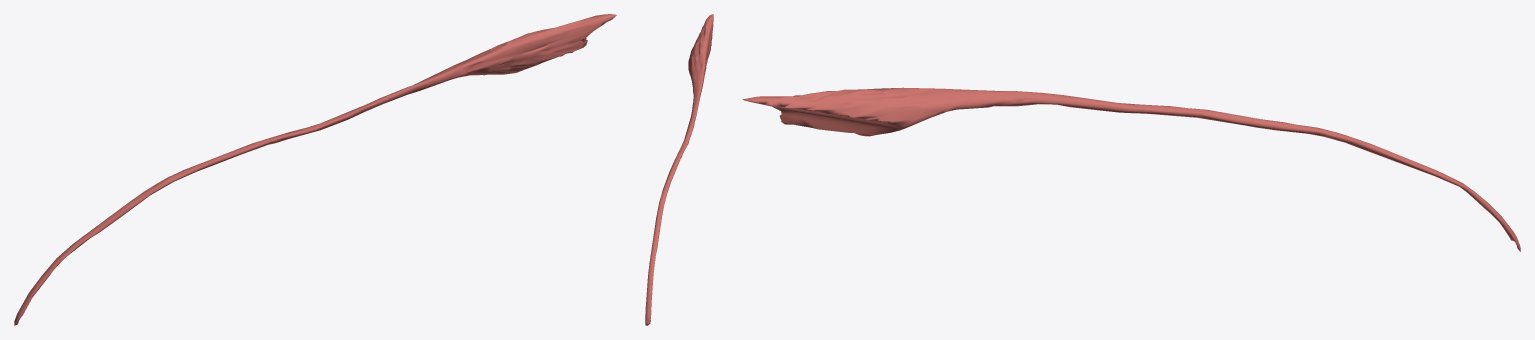
3 renders of one model, left to right at view 1: azimuth 90°, elevation 25°; view 2: azimuth 150°, elevation 25°; view 3: azimuth 270°, elevation 25°, orthographic. The views are drawn at different scales.
Parts seen in each view (by area): view 1: 右侧示指伸肌; view 2: 右侧示指伸肌; view 3: 右侧示指伸肌.
Boxes of the visible parts, <box> form: 右侧示指伸肌: <box>14,14,616,325</box>; 右侧示指伸肌: <box>645,14,713,325</box>; 右侧示指伸肌: <box>742,87,1520,251</box>.
Size of the model in its own units: 0.1189 by 0.1195 by 0.3036.
